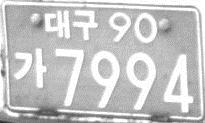0: (133, 10, 157, 45)
4: (162, 52, 196, 113)
7: (52, 46, 86, 109)
9: (125, 49, 156, 112), (89, 48, 120, 110), (107, 9, 132, 45)
가: (14, 44, 47, 92)
대구_O: (42, 6, 99, 42)
